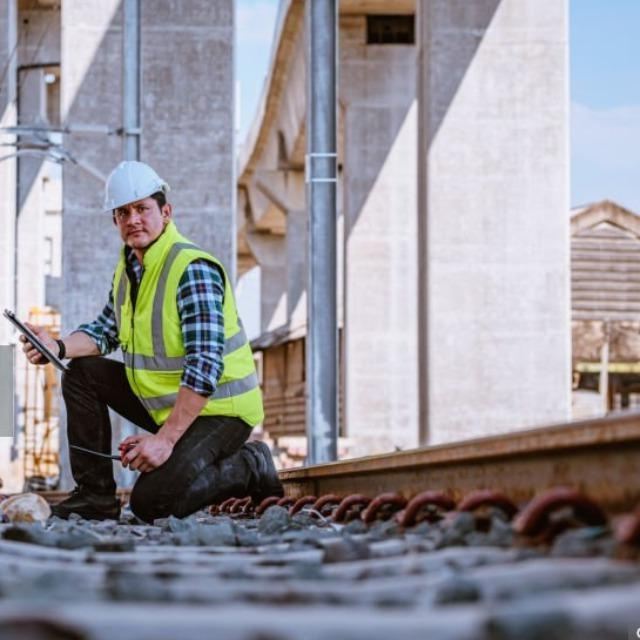Con_Casco: (105, 157, 171, 246)
Con_Chaleco: (106, 243, 255, 437)
